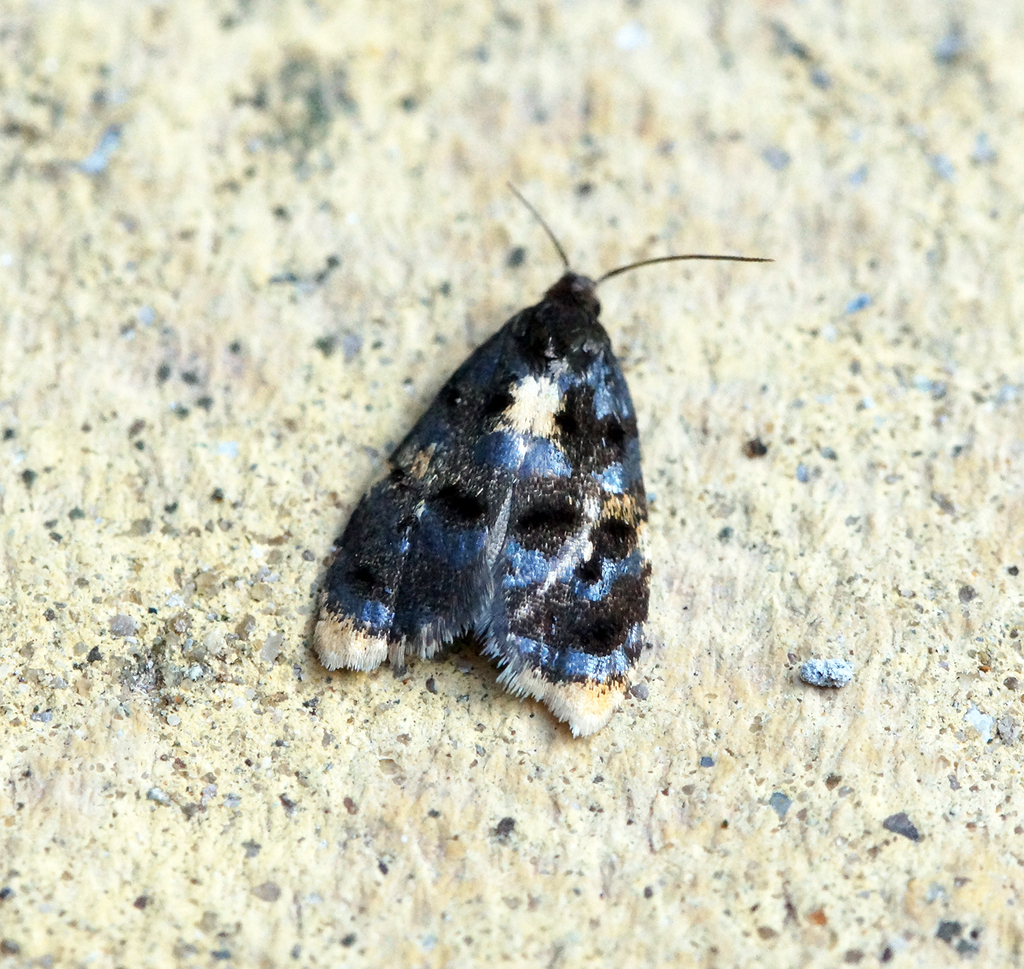Butterfly: (265, 173, 783, 738)
